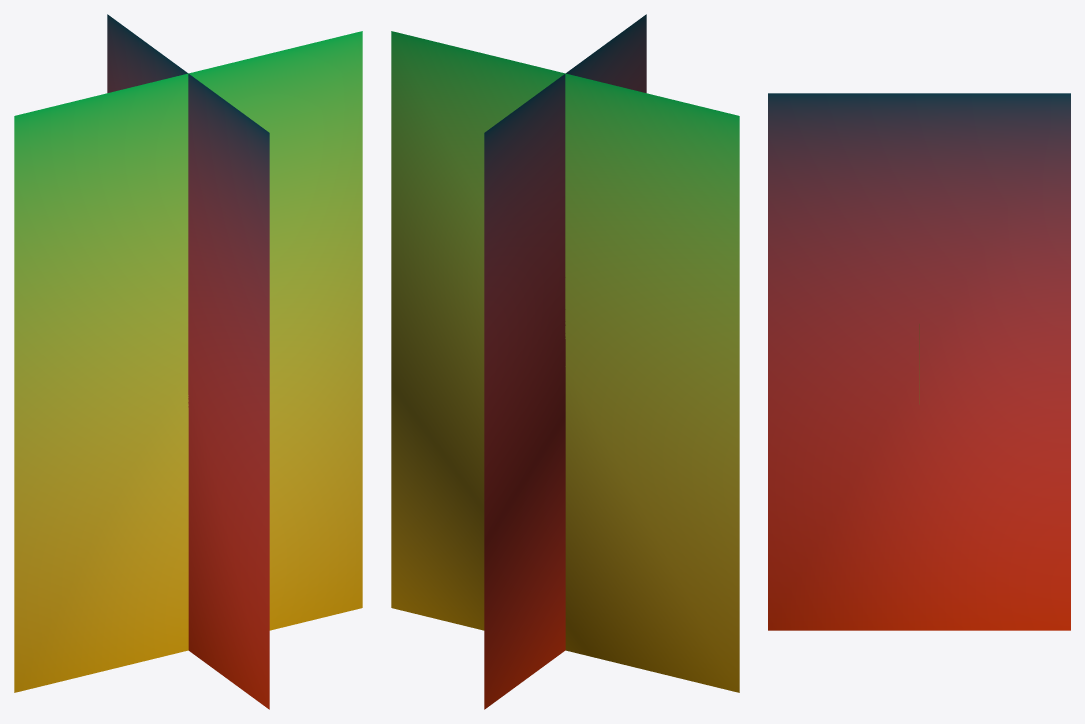
Rendered from SM_Flower_Poppy_C_LOD3.fbx.
The picture shows the model from 3 angles, left to right: view 1: azimuth 30°, elevation 25°; view 2: azimuth 150°, elevation 25°; view 3: azimuth 270°, elevation 25°; orthographic projection. The views are drawn at different scales.
Parts seen in each view (by area): view 1: SM_Flower_Poppy_C_LOD3; view 2: SM_Flower_Poppy_C_LOD3; view 3: SM_Flower_Poppy_C_LOD3.
Boxes of the visible parts, x1,y1,x2,y2 form: SM_Flower_Poppy_C_LOD3: [14, 14, 362, 709]; SM_Flower_Poppy_C_LOD3: [391, 14, 739, 709]; SM_Flower_Poppy_C_LOD3: [768, 93, 1070, 630].
Size of the model in its own units: 0.4095 by 0.6476 by 0.3306.
